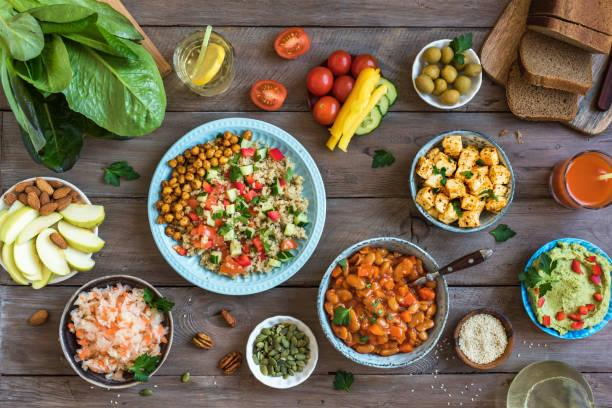Braised Crucian Carp: (148, 117, 322, 292), (318, 237, 448, 369), (60, 271, 175, 392), (410, 131, 514, 233)
